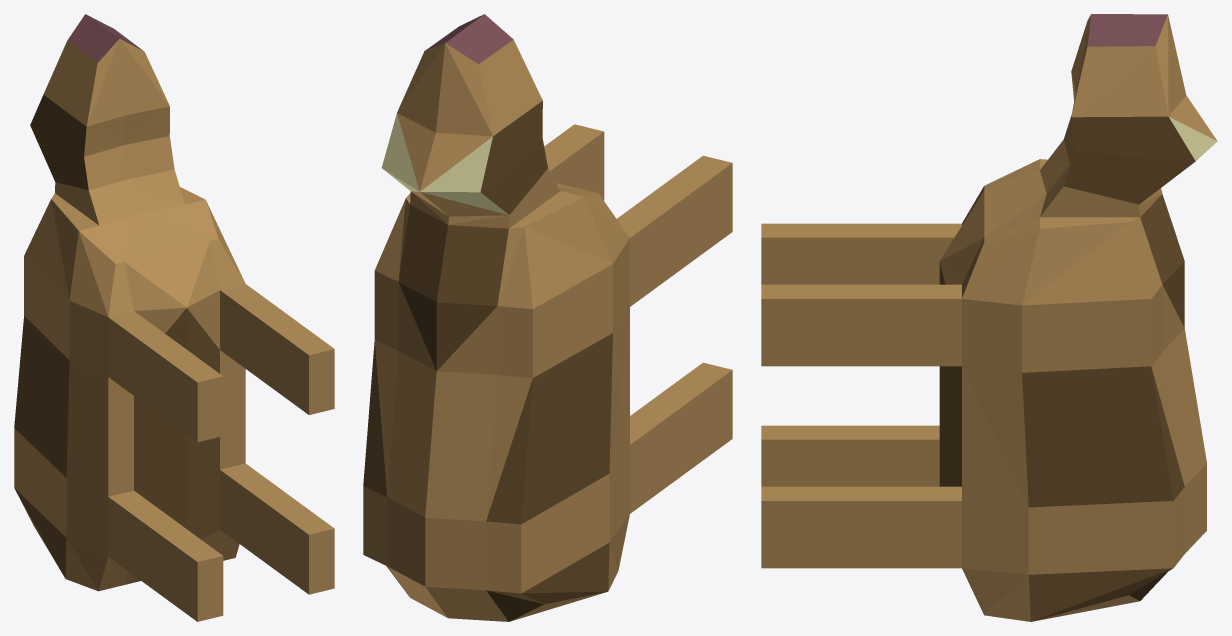
File: BasicCow.fbx
3 renders of one model, left to right at view 1: azimuth 30°, elevation 25°; view 2: azimuth 150°, elevation 25°; view 3: azimuth 270°, elevation 25°, orthographic. The views are drawn at different scales.
Parts seen in each view (by area): view 1: Cube; view 2: Cube; view 3: Cube.
Part boxes in pixels (x1=…): Cube: x1=14, y1=14, x2=334, y2=621; Cube: x1=363, y1=14, x2=732, y2=621; Cube: x1=761, y1=14, x2=1217, y2=621.
Size of the model in its own units: 0.94 by 2.89 by 2.05.
